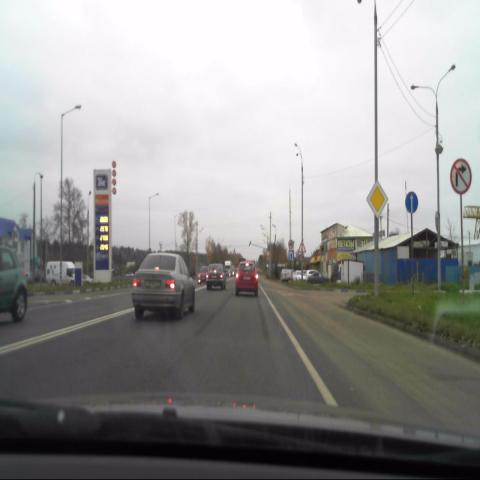1_8: (297, 240, 306, 253)
2_1: (366, 179, 390, 222)
3_18: (450, 157, 472, 196)
3_24: (286, 237, 294, 250)
4_1_1: (404, 190, 418, 216)
5_15_5: (287, 249, 295, 262)
